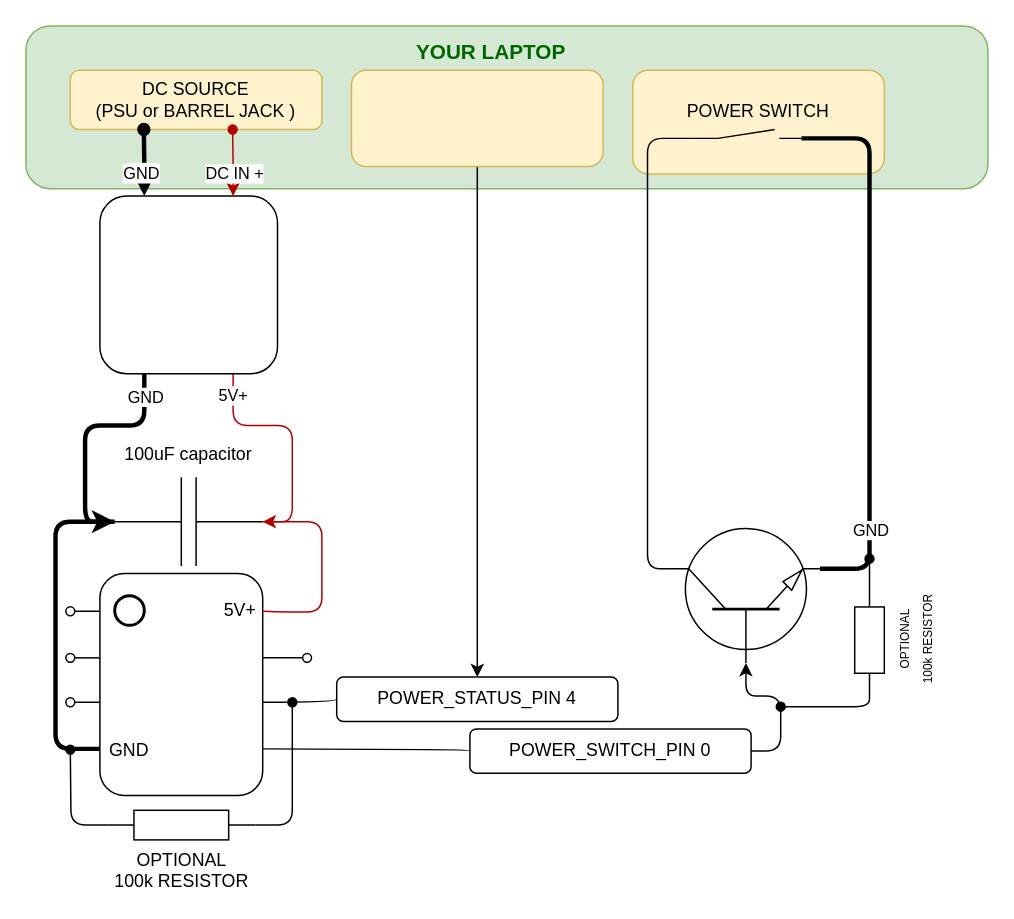
The diagram is 1014 pixels wide and 919 high, and some of its shapes have lost their labels. Here are the shapes that lost their labels. From the top down, the centre of each, then its label:
At point 476,117: "USB 5V+ or POWER INDICATOR LED+".
At point 188,284: "DC/DC STEP DOWN VOLTAGE CONVERTER".
